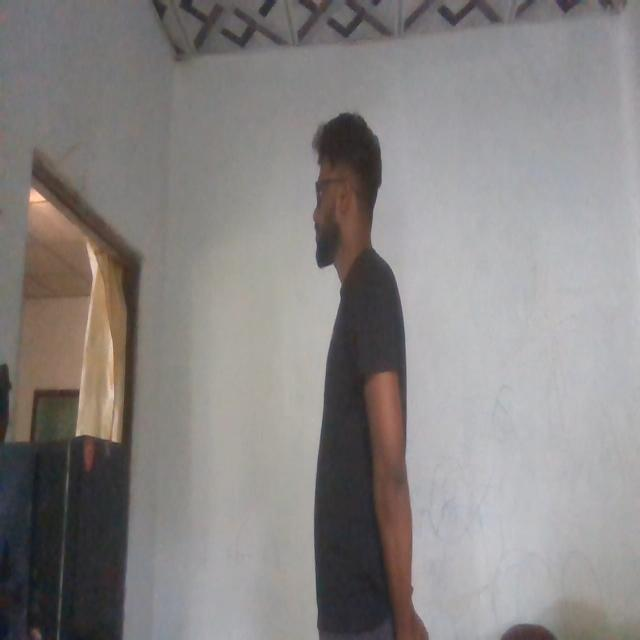Person: (300, 91, 435, 640)
